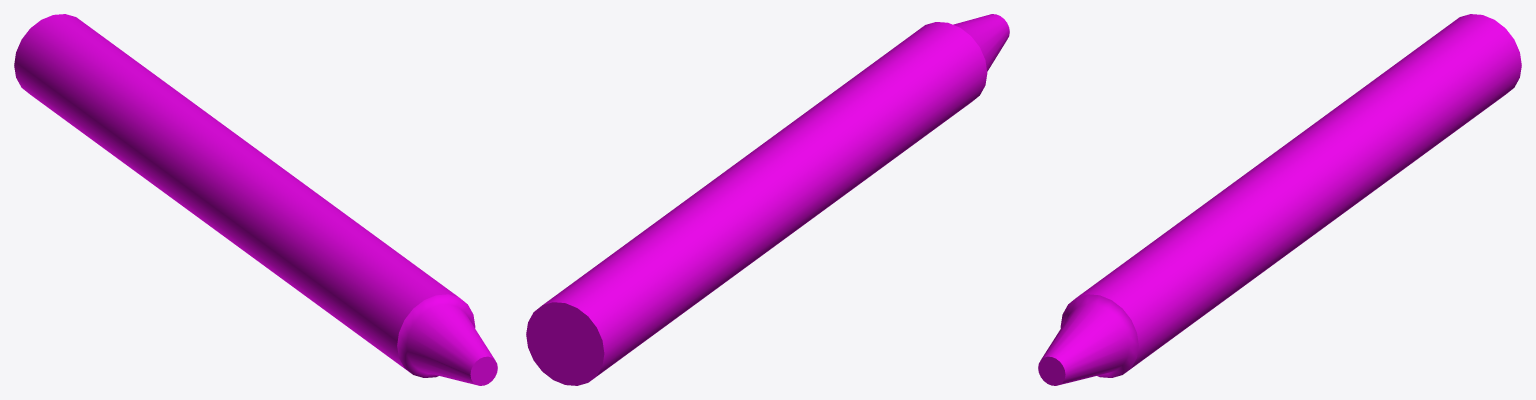
File: Ing_Creyola.fbx
3 renders of one model, left to right at view 1: azimuth 30°, elevation 25°; view 2: azimuth 150°, elevation 25°; view 3: azimuth 330°, elevation 25°, orthographic.
Parts seen in each view (by area): view 1: Ing_Creyola_low; view 2: Ing_Creyola_low; view 3: Ing_Creyola_low.
Boxes of the visible parts, x1,y1,x2,y2 form: Ing_Creyola_low: (14,14,497,385); Ing_Creyola_low: (526,14,1009,385); Ing_Creyola_low: (1038,14,1521,385).
Bounding box in the file's own units: 3.45 × 3.45 × 32.86.
